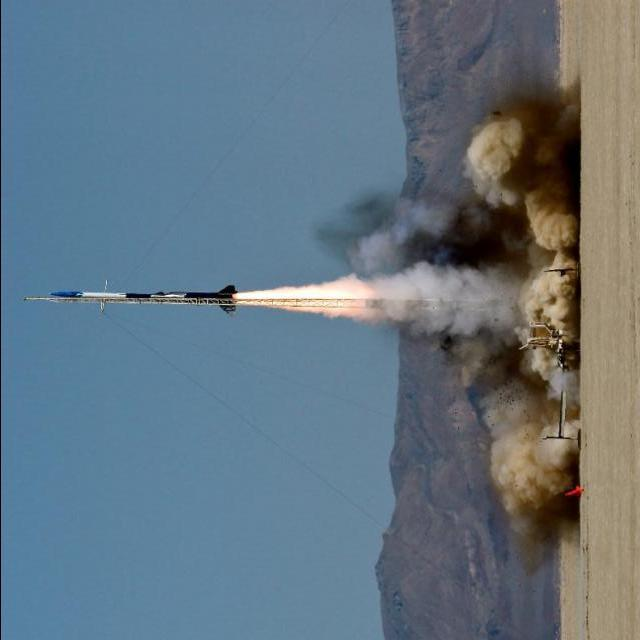missile: (46, 284, 239, 317)
